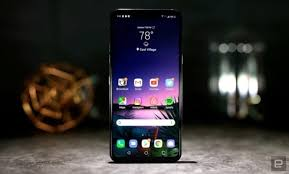lg: (105, 5, 184, 166)
